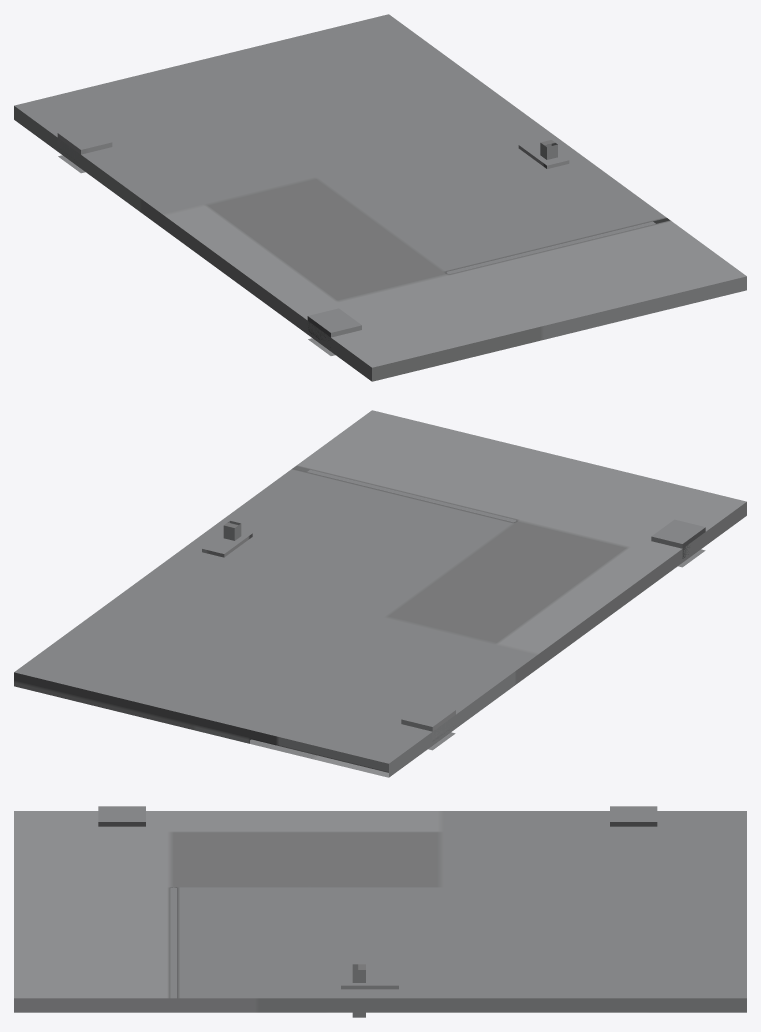
3 renders of one model, top to bottom at view 1: azimuth 30°, elevation 25°; view 2: azimuth 150°, elevation 25°; view 3: azimuth 270°, elevation 25°, orthographic. The views are drawn at different scales.
Size of the model in its own units: 0.84 by 0.1 by 1.39.
